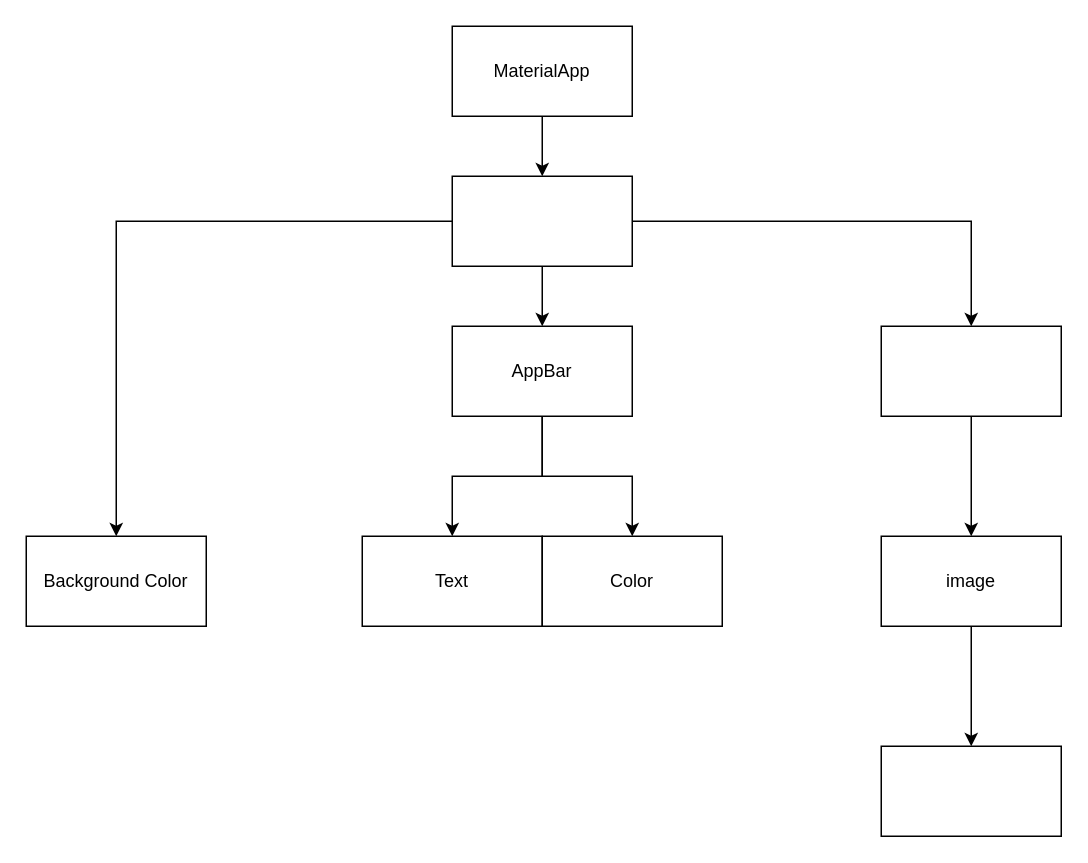
This 1088x863 diagram has some shape labels left out. Each missing label, with the box of its shape:
body: (880, 325, 1061, 416)
NetworkImage: (880, 745, 1061, 836)
Scaffold: (451, 175, 632, 266)
